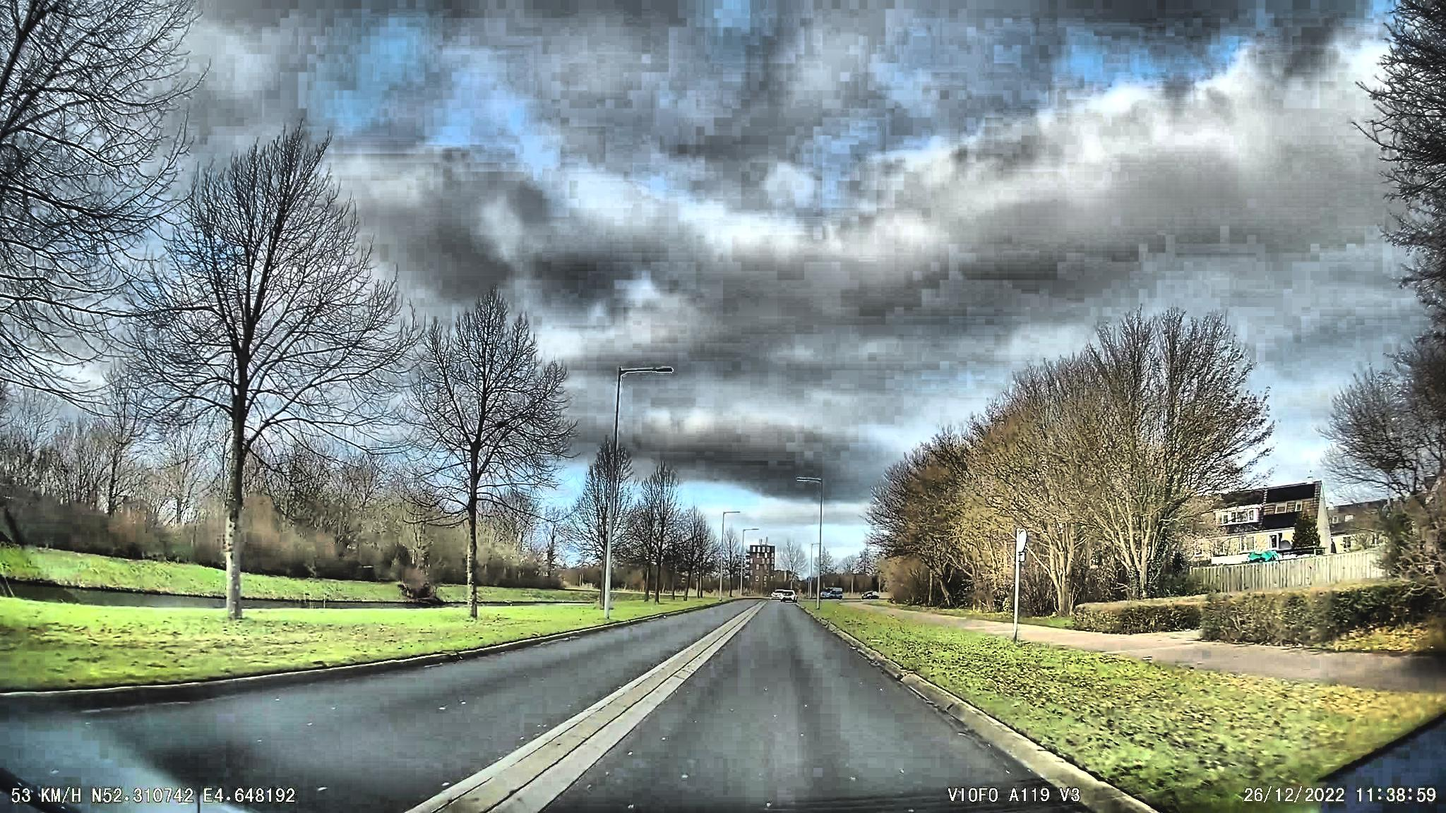Roads: (0, 602, 1162, 813)
